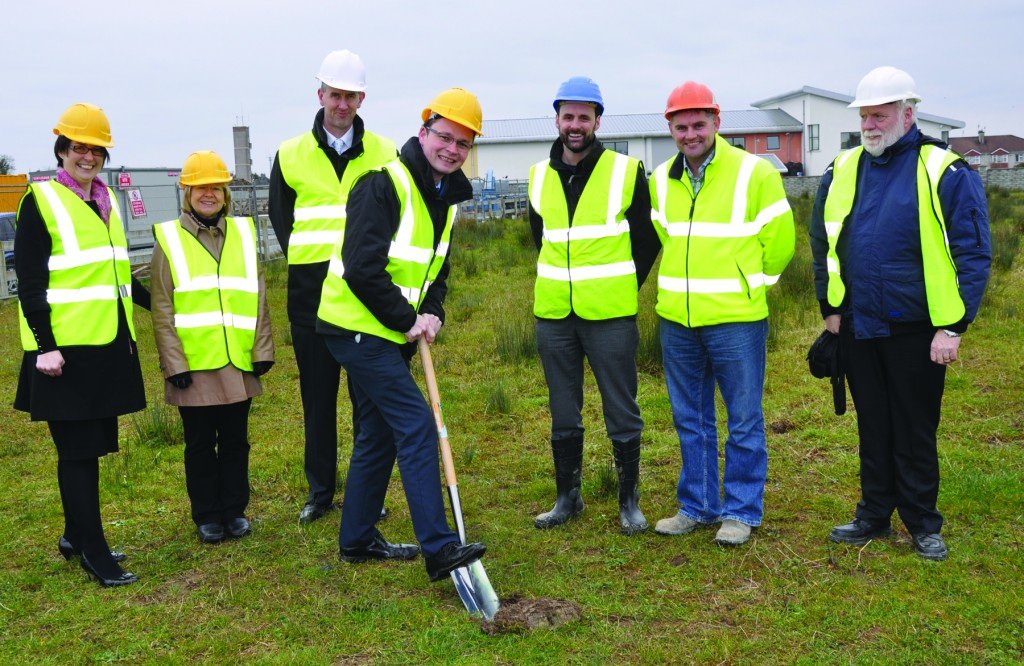Helmet: (843, 61, 934, 161), (418, 80, 491, 185), (46, 97, 122, 191), (656, 77, 737, 163), (544, 70, 612, 156), (312, 44, 375, 126), (175, 145, 237, 226)
Reflective vest: (318, 159, 478, 349), (649, 134, 799, 329), (820, 141, 974, 327), (11, 176, 147, 374), (526, 147, 649, 324), (149, 215, 267, 379), (273, 125, 402, 264)
